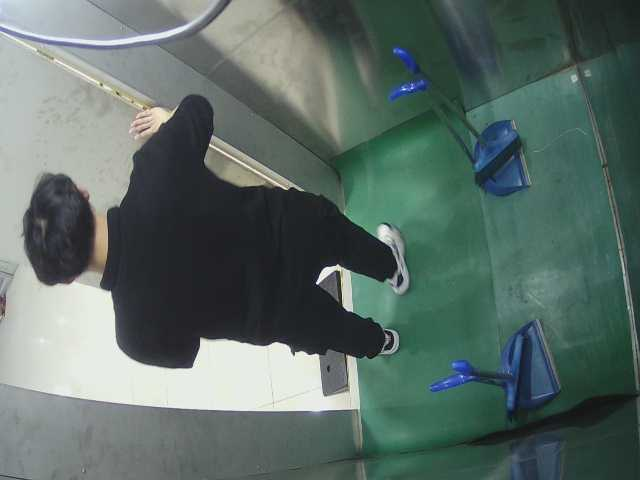broom: (379, 46, 546, 210), (404, 325, 574, 419)
person: (18, 88, 425, 366)
